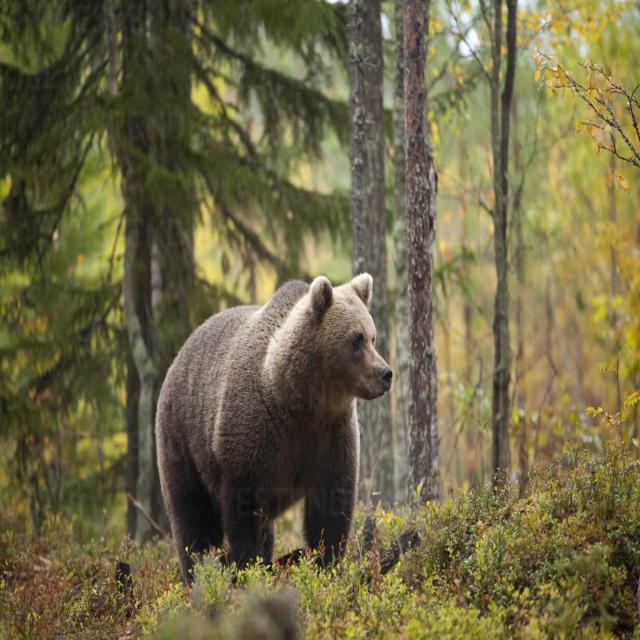Bear: (155, 273, 394, 589)
